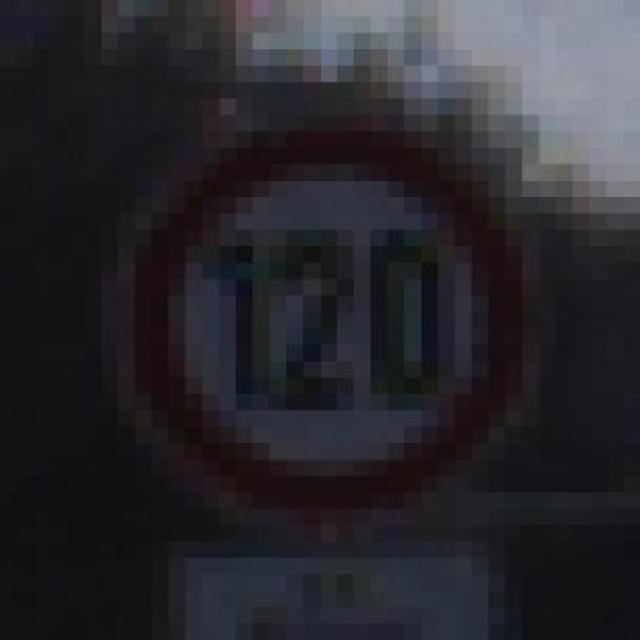forb_speed_over_120: (143, 133, 519, 518)
